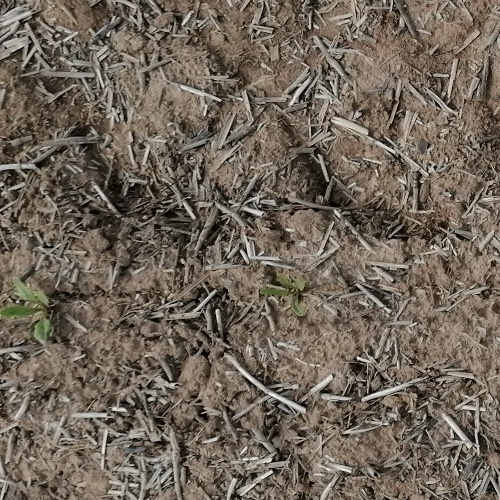beet: (0, 276, 55, 344), (261, 269, 310, 319)
